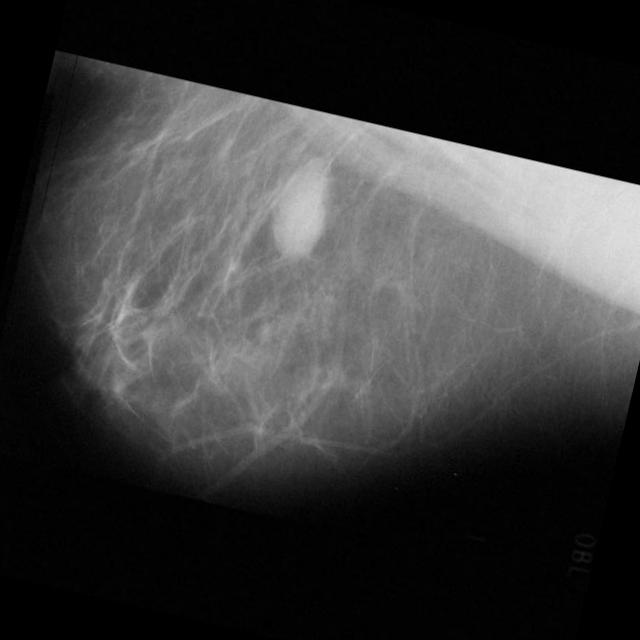CIRC: (241, 152, 360, 271)
